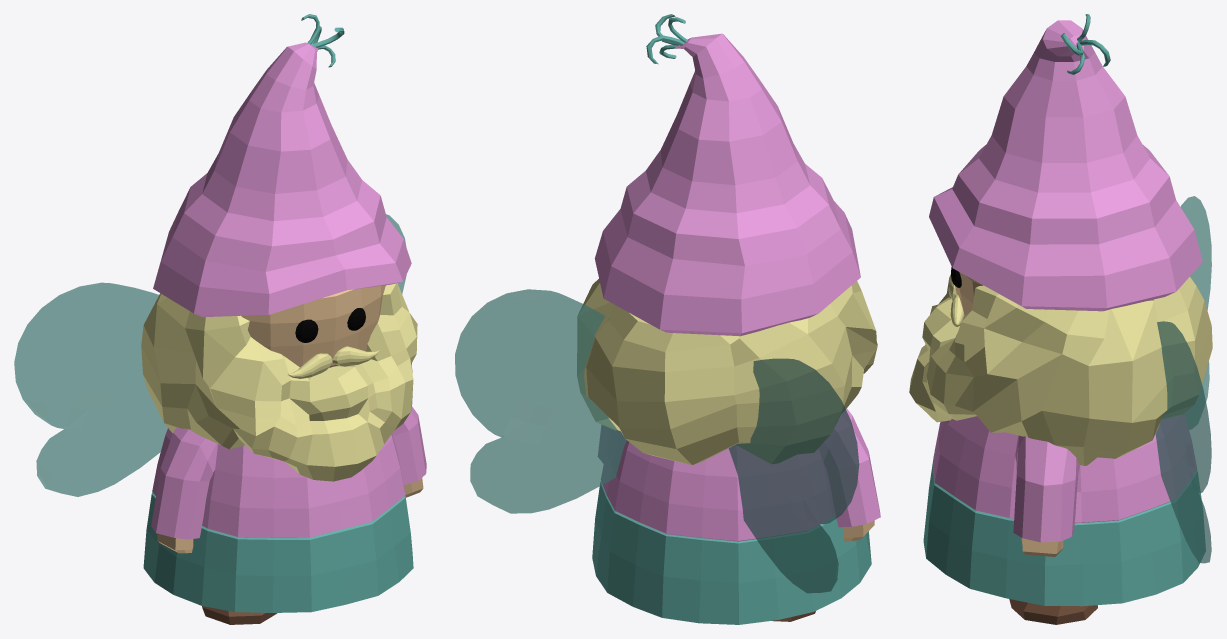
File: fairy_gnome.fbx
The picture shows the model from 3 angles, left to right: view 1: azimuth 30°, elevation 25°; view 2: azimuth 150°, elevation 25°; view 3: azimuth 270°, elevation 25°; orthographic projection. The views are drawn at different scales.
Parts seen in each view (by area): view 1: gnome2; view 2: gnome2; view 3: gnome2.
Part boxes in pixels (x1,y1,x2,y2): gnome2: [14, 14, 426, 624]; gnome2: [455, 14, 880, 624]; gnome2: [909, 14, 1212, 624].
Size of the model in its own units: 15.78 by 21.54 by 10.08.
